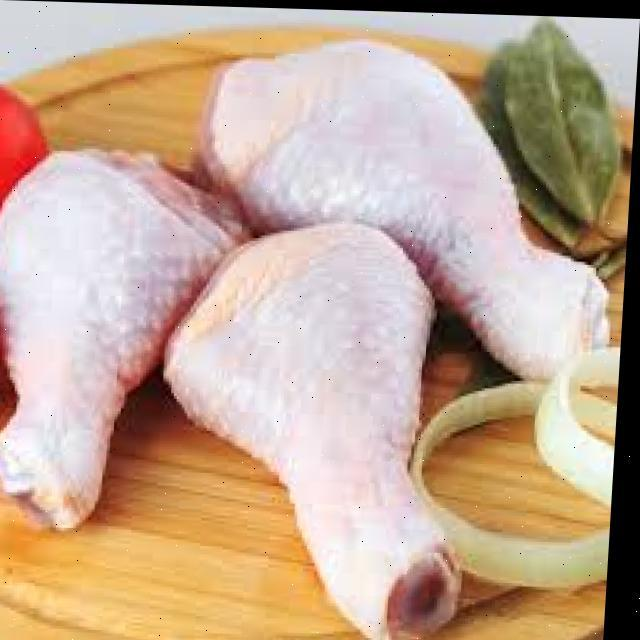leg: (178, 43, 624, 360), (162, 236, 482, 636), (0, 135, 226, 528)
